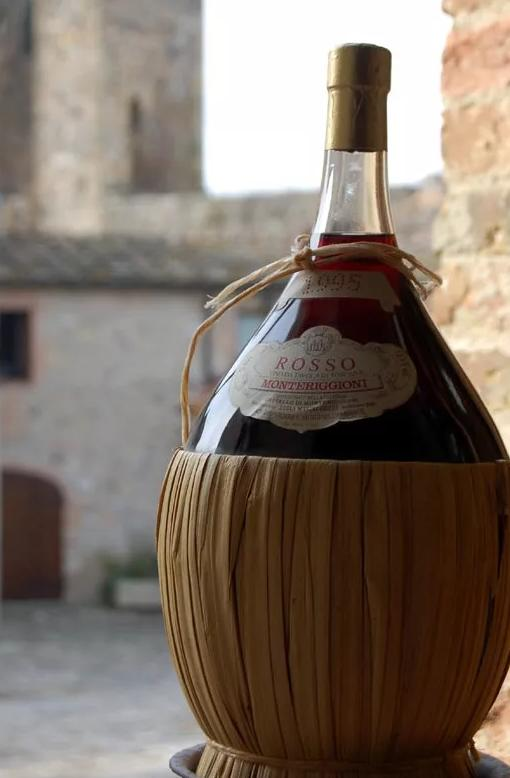wine bottle: (156, 40, 510, 776)
wine label: (228, 319, 421, 435)
